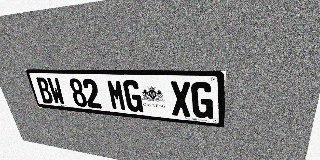2: (81, 78, 102, 109)
8: (68, 78, 88, 107)
B: (35, 77, 54, 104)
G: (191, 82, 213, 119), (122, 80, 144, 113)
M: (106, 79, 127, 111)
W: (46, 77, 66, 105)
X: (170, 81, 192, 117)
